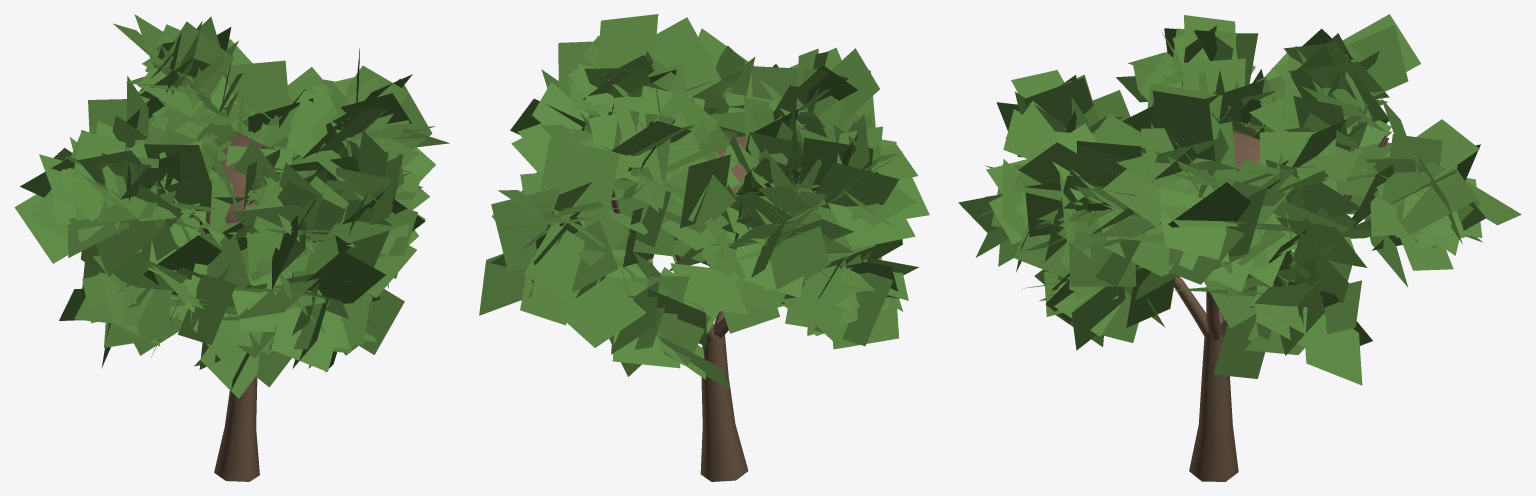
The model's file is foliage-broadleaf-light.glb.
3 renders of one model, left to right at view 1: azimuth 30°, elevation 25°; view 2: azimuth 150°, elevation 25°; view 3: azimuth 270°, elevation 25°, orthographic. The views are drawn at different scales.
Parts seen in each view (by area): view 1: leaves, bark; view 2: leaves, bark; view 3: leaves, bark.
Part boxes in pixels (x1,y1,x2,y2): leaves: [14, 14, 449, 398]; bark: [199, 131, 292, 481]; leaves: [479, 14, 929, 389]; bark: [611, 136, 817, 481]; leaves: [958, 14, 1521, 385]; bark: [1174, 127, 1388, 481].
Bounding box in the file's own units: 10.08 × 10.71 × 12.34.
